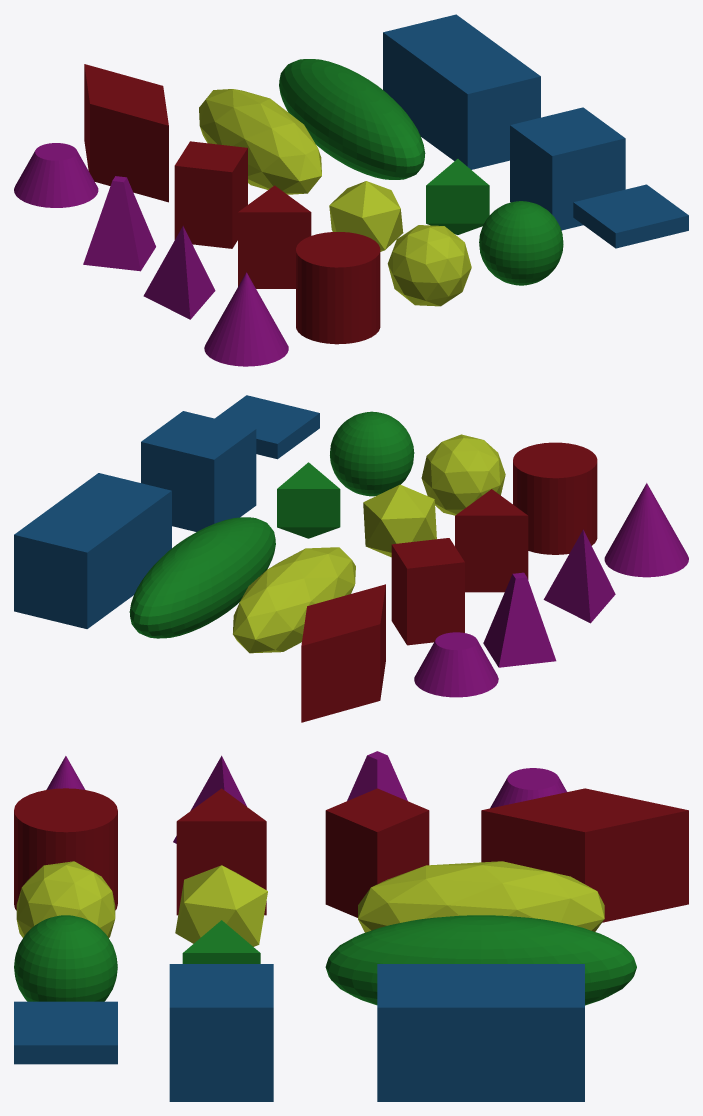
The model's file is basic_shapes.glb.
3 views of the same model, one above another, from view 1: azimuth 30°, elevation 25°; view 2: azimuth 150°, elevation 25°; view 3: azimuth 270°, elevation 25° (orthographic). The views are drawn at different scales.
Parts seen in each view (by area): view 1: Cube_5, Sphere.002_20, Cube.001_6, Cylinder.003_11, Cylinder.001_9, Icosphere.002_14, Cylinder.002_10, Cylinder_8, Sphere.001_19, Icosphere.001_13, Cube.002_7, Cone.002_3 (+5 smaller); view 2: Cube_5, Sphere.002_20, Cube.001_6, Cylinder.003_11, Cylinder.001_9, Icosphere.002_14, Cylinder.002_10, Cylinder_8, Sphere.001_19, Icosphere.001_13, Cone.002_3, Cone.001_2 (+5 smaller); view 3: Cube_5, Cylinder.003_11, Sphere.002_20, Cube.001_6, Icosphere.002_14, Cylinder.002_10, Cylinder.001_9, Sphere.001_19, Cylinder_8, Cube.002_7, Icosphere_12, Icosphere.001_13 (+5 smaller).
Part boxes in pixels (<box>): Cube_5: <box>383,14,540,169</box>; Sphere.002_20: <box>279,59,425,179</box>; Cube.001_6: <box>510,107,625,230</box>; Cylinder.003_11: <box>84,64,168,202</box>; Cylinder.001_9: <box>296,232,380,344</box>; Icosphere.002_14: <box>199,89,321,194</box>; Cylinder.002_10: <box>174,141,247,248</box>; Cylinder_8: <box>238,185,311,288</box>; Sphere.001_19: <box>479,201,563,285</box>; Icosphere.001_13: <box>387,225,471,306</box>; Cube.002_7: <box>573,184,688,248</box>; Cone.002_3: <box>204,272,288,366</box>; Cube_5: <box>14,473,171,628</box>; Sphere.002_20: <box>129,517,275,638</box>; Cube.001_6: <box>141,411,256,531</box>; Cylinder.003_11: <box>301,584,385,722</box>; Cylinder.001_9: <box>513,442,597,554</box>; Icosphere.002_14: <box>233,547,355,653</box>; Cylinder.002_10: <box>391,538,464,645</box>; Cylinder_8: <box>455,489,528,592</box>; Sphere.001_19: <box>330,411,414,496</box>; Icosphere.001_13: <box>421,434,505,515</box>; Cone.002_3: <box>604,483,688,577</box>; Cone.001_2: <box>483,572,556,667</box>; Cube_5: <box>377,964,584,1101</box>; Cylinder.003_11: <box>481,788,688,922</box>; Sphere.002_20: <box>325,915,636,1005</box>; Cube.001_6: <box>169,964,273,1101</box>; Icosphere.002_14: <box>358,861,604,932</box>; Cylinder.002_10: <box>325,788,429,917</box>; Cylinder.001_9: <box>14,788,117,910</box>; Sphere.001_19: <box>14,915,117,1001</box>; Cylinder_8: <box>176,788,266,915</box>; Cube.002_7: <box>14,1001,117,1064</box>; Icosphere_12: <box>175,865,267,946</box>; Icosphere.001_13: <box>16,861,115,937</box>.
Size of what is drawn, in the model's own units: 12.5 by 2 by 13.
